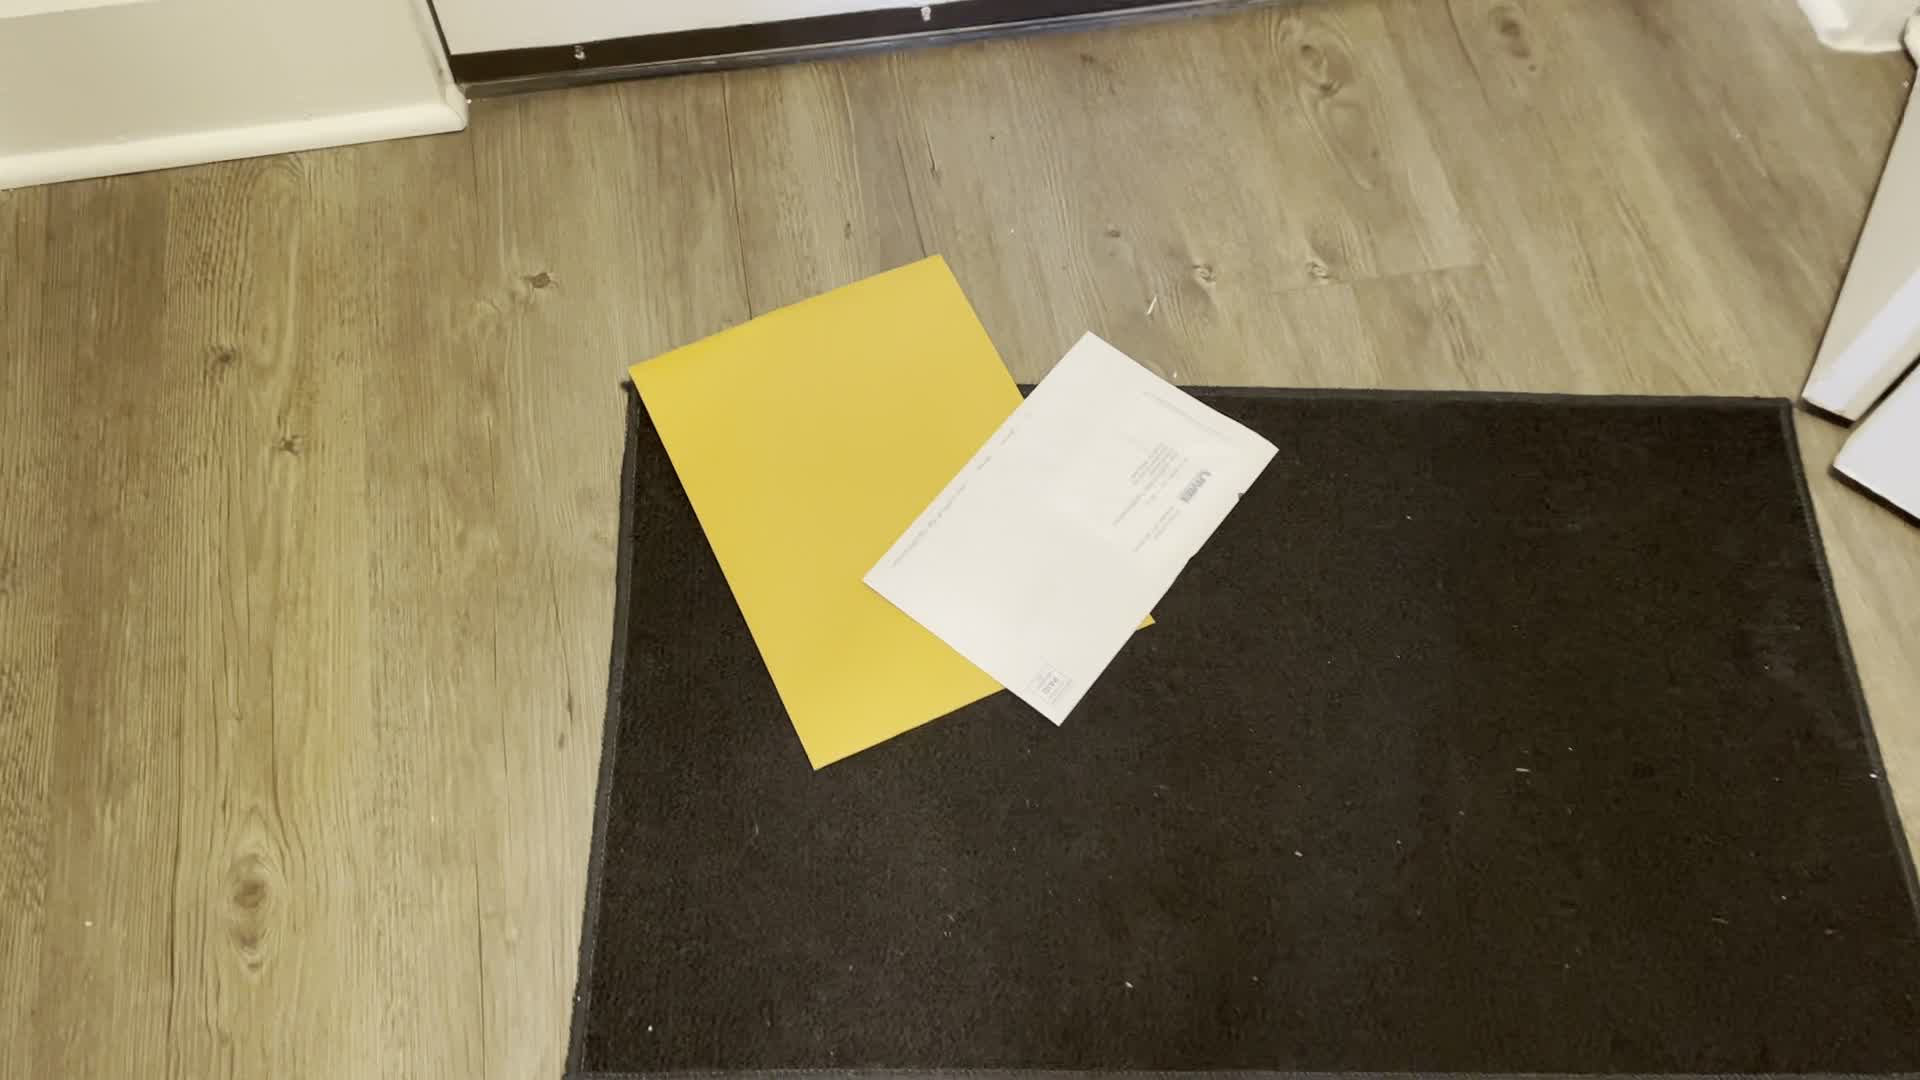envelope: (626, 251, 1011, 770), (870, 327, 1276, 725)
